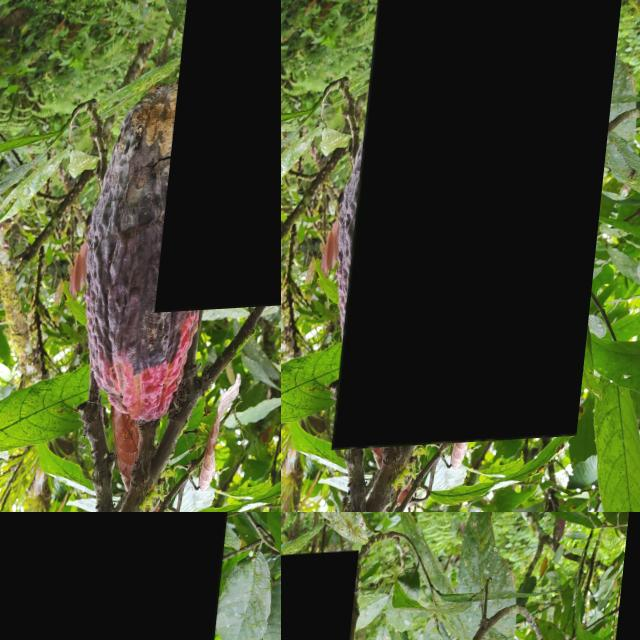Fitoftora: (342, 0, 631, 453), (162, 0, 281, 316)
Monilia: (0, 512, 242, 640)
Sana: (340, 0, 431, 132)
